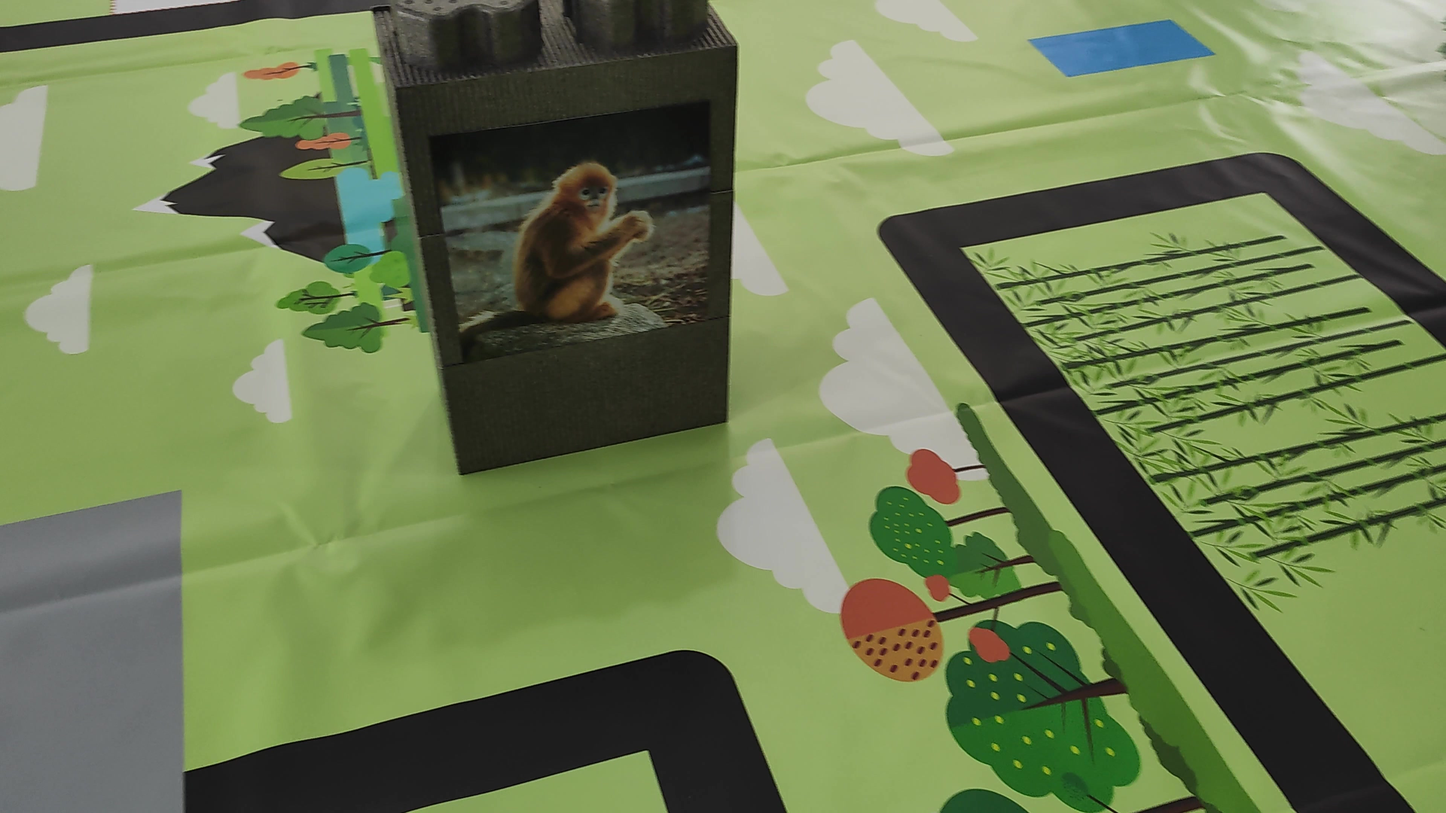monkey: (446, 154, 668, 356)
